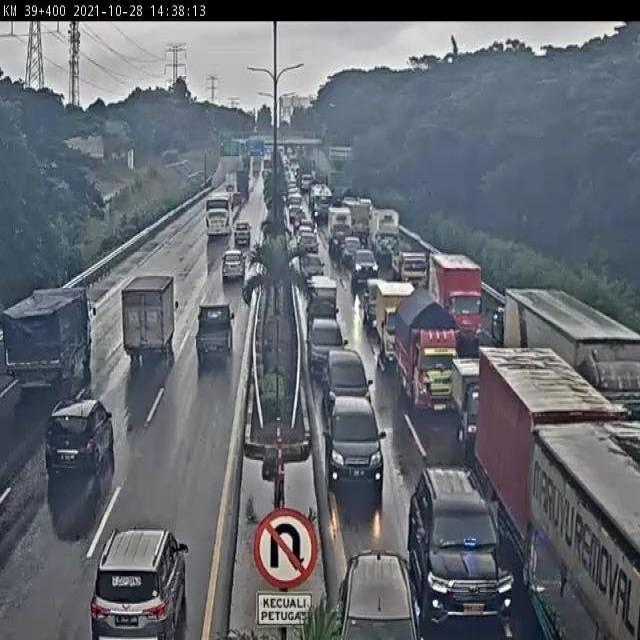big bus: (206, 196, 229, 236)
big truck: (480, 347, 634, 557), (529, 428, 640, 640), (501, 288, 640, 424), (6, 273, 94, 424), (121, 266, 179, 394), (394, 295, 456, 401), (428, 255, 480, 336), (376, 283, 418, 361)
car: (413, 452, 500, 616), (86, 532, 191, 637), (42, 389, 131, 507), (339, 537, 418, 640), (332, 388, 396, 492), (191, 289, 248, 391), (322, 348, 386, 428), (301, 316, 357, 363), (219, 249, 249, 288), (232, 223, 255, 252)
